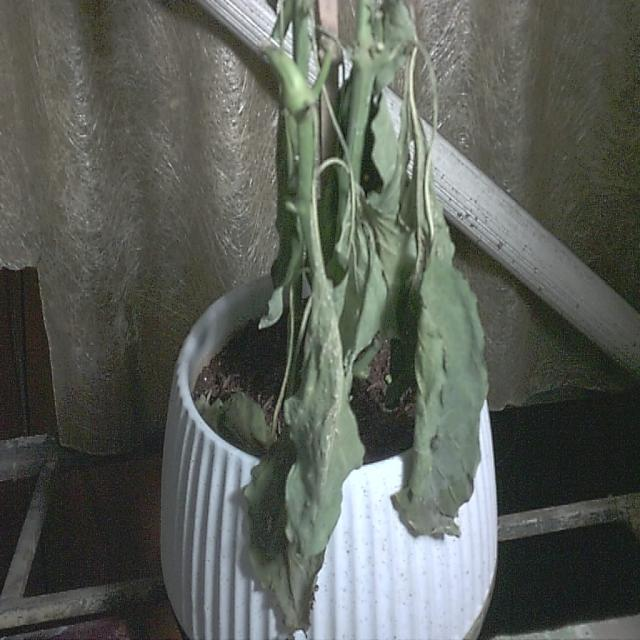Leaf: (241, 281, 364, 634), (390, 261, 487, 542)
